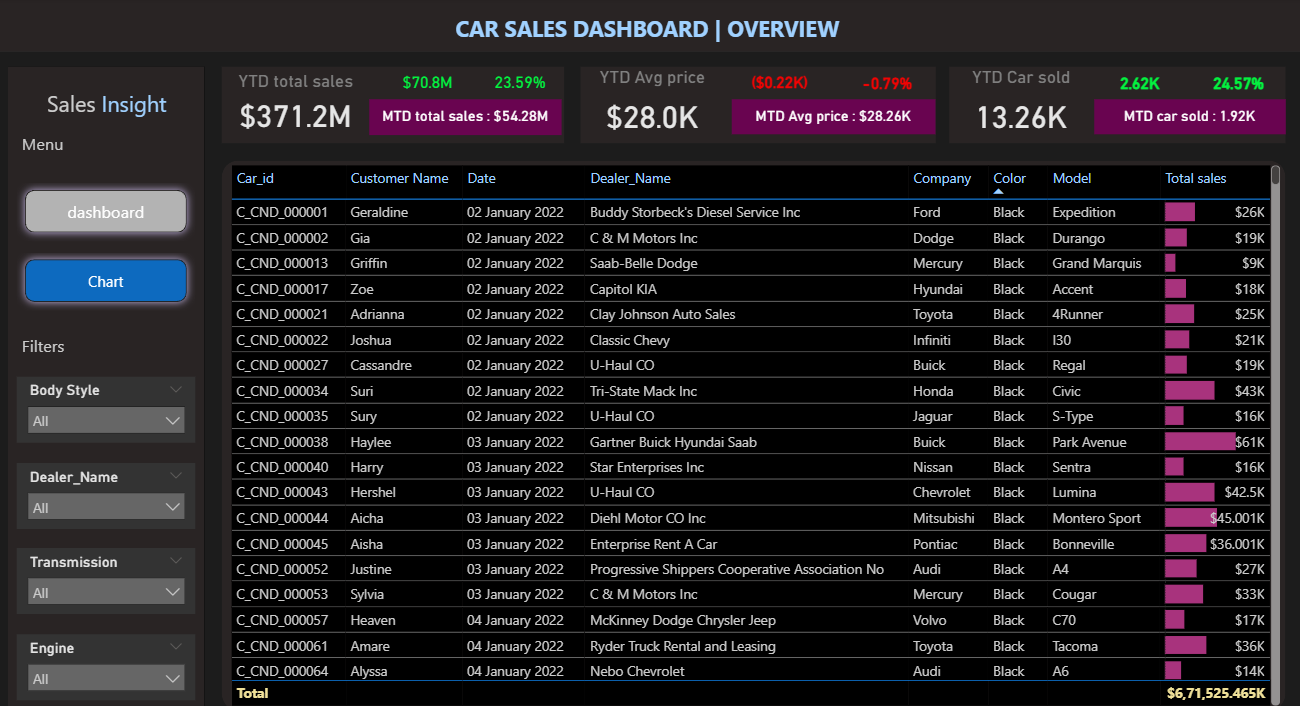

What the dashboard file says about the page in this screenshot:
{"tool":"powerbi","page":{"name":"dashboard","canvas":[1280,720],"ordinal":0},"visuals":[{"type":"shape","box":[0,0,1280,52.5],"z":0},{"type":"shape","box":[10,67.5,192.5,632.5],"z":1000},{"type":"shape","box":[220,67.5,336.2,75],"z":2000},{"type":"shape","box":[571.2,67.5,348.8,75],"z":3000},{"type":"shape","box":[933.8,67.5,330,75],"z":4000},{"type":"shape","box":[220,160,496.2,265],"z":5000},{"type":"shape","box":[735,160,255,265],"z":6000},{"type":"shape","box":[1008.8,160,255,265],"z":7000},{"type":"shape","box":[220,446.2,496.2,253.8],"z":8000},{"type":"shape","box":[735,446.2,528.8,253.8],"z":9000},{"type":"card","title":"YTD total sales","fields":{"Values":["car_data.YTD total sales"]},"box":[220,71.2,145,67.5],"z":10000},{"type":"card","fields":{"Values":["car_data.Sales differnce"]},"box":[373.8,67.5,95,32.5],"z":11000},{"type":"card","fields":{"Values":["car_data.YOY sales Growth"]},"box":[468.8,67.5,87.5,32.5],"z":12000},{"type":"card","fields":{"Values":["car_data.MTD KPI"]},"box":[0,0,189,35.6],"z":13000},{"type":"card","title":"YTD Avg price","fields":{"Values":["car_data.YTD Avg price"]},"box":[569.3,67.5,146,76.1],"z":14000},{"type":"card","fields":{"Values":["car_data.Avg price difference"]},"box":[720.2,67.5,94.5,33.1],"z":15000},{"type":"card","fields":{"Values":["car_data.YOY Avg price growth"]},"box":[825.8,68.7,94.5,33.1],"z":16000},{"type":"card","fields":{"Values":["car_data.MTD Avg price KPI"]},"box":[720.2,99.4,200,34.4],"z":17000},{"type":"card","title":"YTD Car sold","fields":{"Values":["car_data.YTD car sold"]},"box":[935,67.5,138.7,76.1],"z":18000},{"type":"card","fields":{"Values":["car_data.Car sold diff"]},"box":[1073.6,68.7,94.5,33.1],"z":19000},{"type":"card","fields":{"Values":["car_data.YOY car sold growth"]},"box":[1170.6,68.7,94.5,33.1],"z":20000},{"type":"card","fields":{"Values":["car_data.MTD car sold KPI"]},"box":[1076.1,99.4,187.7,34.4],"z":21000},{"type":"areaChart","title":"YTD sales weekly trend","fields":{"Category":["calender table.WEEK"],"Y":["Sum(car_data.Price ($))","car_data.Max point"]},"box":[219.6,159.5,500.6,277.3],"z":22000},{"type":"donutChart","fields":{"Category":["car_data.Body Style"],"Y":["car_data.YTD total sales"]},"box":[735,159.5,255.2,265],"z":23000},{"type":"donutChart","fields":{"Y":["car_data.YTD total sales"],"Category":["car_data.Color"]},"box":[1009.8,159.5,255.2,265],"z":24000},{"type":"tableEx","title":"Company wise sales trend","fields":{"Values":["car_data.Company","car_data.YTD Avg price","car_data.YTD car sold","car_data.YTD total sales1","car_data.YTD total sales"]},"box":[735,446.6,530.1,252.8],"z":25000},{"type":"textbox","box":[433.1,9.8,408.6,42.9],"z":26000},{"type":"slicer","fields":{"Values":["car_data.Body Style"]},"box":[18.4,371.8,175.5,65],"z":27000},{"type":"slicer","fields":{"Values":["car_data.Dealer_Name"]},"box":[18.4,456.4,175.5,65],"z":28000},{"type":"slicer","fields":{"Values":["car_data.Transmission"]},"box":[18.4,539.9,175.5,65],"z":29000},{"type":"slicer","fields":{"Values":["car_data.Engine"]},"box":[18.4,624.5,175.5,65],"z":30000},{"type":"textbox","box":[18.4,325.2,77.3,34.4],"z":31000},{"type":"pageNavigator","box":[18.4,171.8,175.5,126.4],"z":32000},{"type":"textbox","box":[9.8,71.2,192.6,50.3],"z":33000},{"type":"textbox","box":[12.3,123.9,94.5,39.3],"z":34000},{"type":"clusteredColumnChart","fields":{"Category":["car_data.Dealer_Region"],"Y":["car_data.YTD car sold"]},"box":[219.6,446.6,495.7,252.8],"z":35000}]}

Visuals, with their boxes on the page's 1280x720 design canvas (x1, y1, x2, y2). These are canvas units, not pixel positions in the 1300x706 screenshot, which may show the page scaled, cropped or inside an application window:
shape: {"x1": 0, "y1": 0, "x2": 1280, "y2": 52}
shape: {"x1": 10, "y1": 68, "x2": 202, "y2": 700}
shape: {"x1": 220, "y1": 68, "x2": 556, "y2": 142}
shape: {"x1": 571, "y1": 68, "x2": 920, "y2": 142}
shape: {"x1": 934, "y1": 68, "x2": 1264, "y2": 142}
shape: {"x1": 220, "y1": 160, "x2": 716, "y2": 425}
shape: {"x1": 735, "y1": 160, "x2": 990, "y2": 425}
shape: {"x1": 1009, "y1": 160, "x2": 1264, "y2": 425}
shape: {"x1": 220, "y1": 446, "x2": 716, "y2": 700}
shape: {"x1": 735, "y1": 446, "x2": 1264, "y2": 700}
"YTD total sales" card: {"x1": 220, "y1": 71, "x2": 365, "y2": 139}
card - car_data.Sales differnce: {"x1": 374, "y1": 68, "x2": 469, "y2": 100}
card - car_data.YOY sales Growth: {"x1": 469, "y1": 68, "x2": 556, "y2": 100}
card - car_data.MTD KPI: {"x1": 0, "y1": 0, "x2": 189, "y2": 36}
"YTD Avg price" card: {"x1": 569, "y1": 68, "x2": 715, "y2": 144}
card - car_data.Avg price difference: {"x1": 720, "y1": 68, "x2": 815, "y2": 101}
card - car_data.YOY Avg price growth: {"x1": 826, "y1": 69, "x2": 920, "y2": 102}
card - car_data.MTD Avg price KPI: {"x1": 720, "y1": 99, "x2": 920, "y2": 134}
"YTD Car sold" card: {"x1": 935, "y1": 68, "x2": 1074, "y2": 144}
card - car_data.Car sold diff: {"x1": 1074, "y1": 69, "x2": 1168, "y2": 102}
card - car_data.YOY car sold growth: {"x1": 1171, "y1": 69, "x2": 1265, "y2": 102}
card - car_data.MTD car sold KPI: {"x1": 1076, "y1": 99, "x2": 1264, "y2": 134}
"YTD sales weekly trend" areaChart: {"x1": 220, "y1": 160, "x2": 720, "y2": 437}
donutChart - car_data.Body Style x car_data.YTD total sales: {"x1": 735, "y1": 160, "x2": 990, "y2": 424}
donutChart - car_data.YTD total sales x car_data.Color: {"x1": 1010, "y1": 160, "x2": 1265, "y2": 424}
"Company wise sales trend" tableEx: {"x1": 735, "y1": 447, "x2": 1265, "y2": 699}
textbox: {"x1": 433, "y1": 10, "x2": 842, "y2": 53}
slicer - car_data.Body Style: {"x1": 18, "y1": 372, "x2": 194, "y2": 437}
slicer - car_data.Dealer_Name: {"x1": 18, "y1": 456, "x2": 194, "y2": 521}
slicer - car_data.Transmission: {"x1": 18, "y1": 540, "x2": 194, "y2": 605}
slicer - car_data.Engine: {"x1": 18, "y1": 624, "x2": 194, "y2": 690}
textbox: {"x1": 18, "y1": 325, "x2": 96, "y2": 360}
pageNavigator: {"x1": 18, "y1": 172, "x2": 194, "y2": 298}
textbox: {"x1": 10, "y1": 71, "x2": 202, "y2": 122}
textbox: {"x1": 12, "y1": 124, "x2": 107, "y2": 163}
clusteredColumnChart - car_data.Dealer_Region x car_data.YTD car sold: {"x1": 220, "y1": 447, "x2": 715, "y2": 699}
